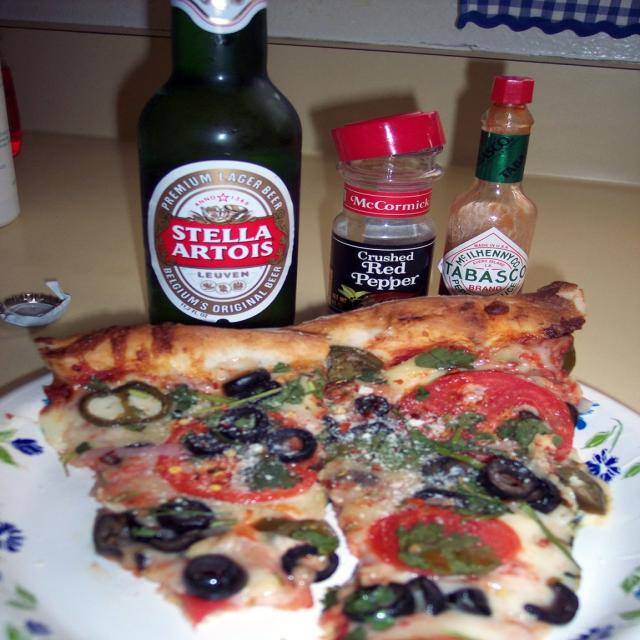stellaartois: (155, 167, 293, 319)
